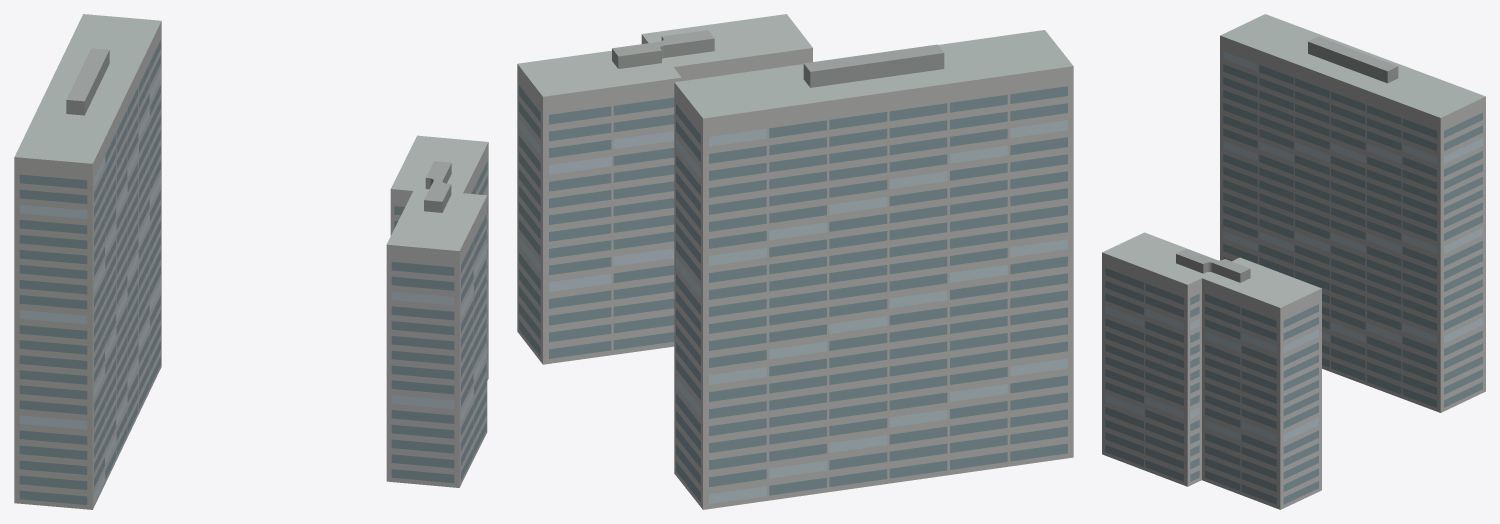
File: apt-a13922108.glb
3 renders of one model, left to right at view 1: azimuth 30°, elevation 25°; view 2: azimuth 150°, elevation 25°; view 3: azimuth 270°, elevation 25°, orthographic. The views are drawn at different scales.
Visible parts, largest first — view 1: apt-a13922108; view 2: apt-a13922108; view 3: apt-a13922108.
Part boxes in pixels (x1,y1,x2,y2): apt-a13922108: [14, 14, 488, 509]; apt-a13922108: [517, 14, 1073, 509]; apt-a13922108: [1102, 14, 1485, 509].
Bounding box in the file's own units: 85.58 × 61 × 69.1.
